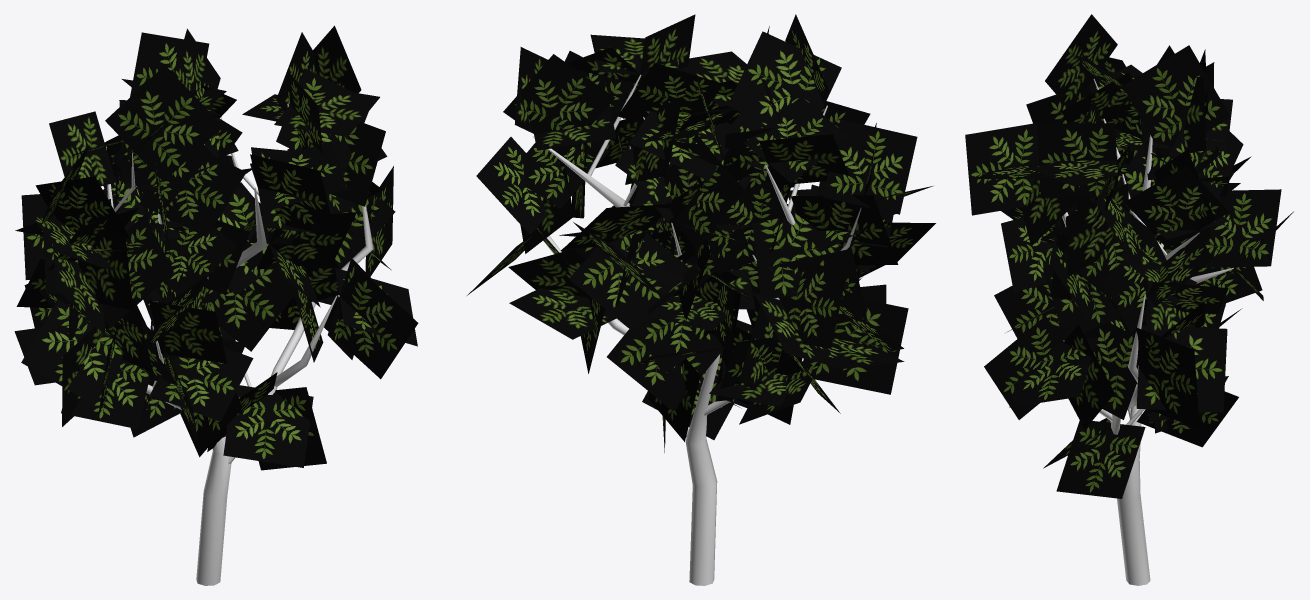
File: Tree12.fbx
The picture shows the model from 3 angles, left to right: view 1: azimuth 30°, elevation 25°; view 2: azimuth 150°, elevation 25°; view 3: azimuth 270°, elevation 25°; orthographic projection. The views are drawn at different scales.
Visible parts, largest first — view 1: Tree12; view 2: Tree12; view 3: Tree12.
Boxes of the visible parts, x1=… form: Tree12: x1=14, y1=25, x2=418, y2=585; Tree12: x1=467, y1=14, x2=935, y2=585; Tree12: x1=965, y1=14, x2=1293, y2=585.
Size of the model in its own units: 834 by 1075 by 602.
